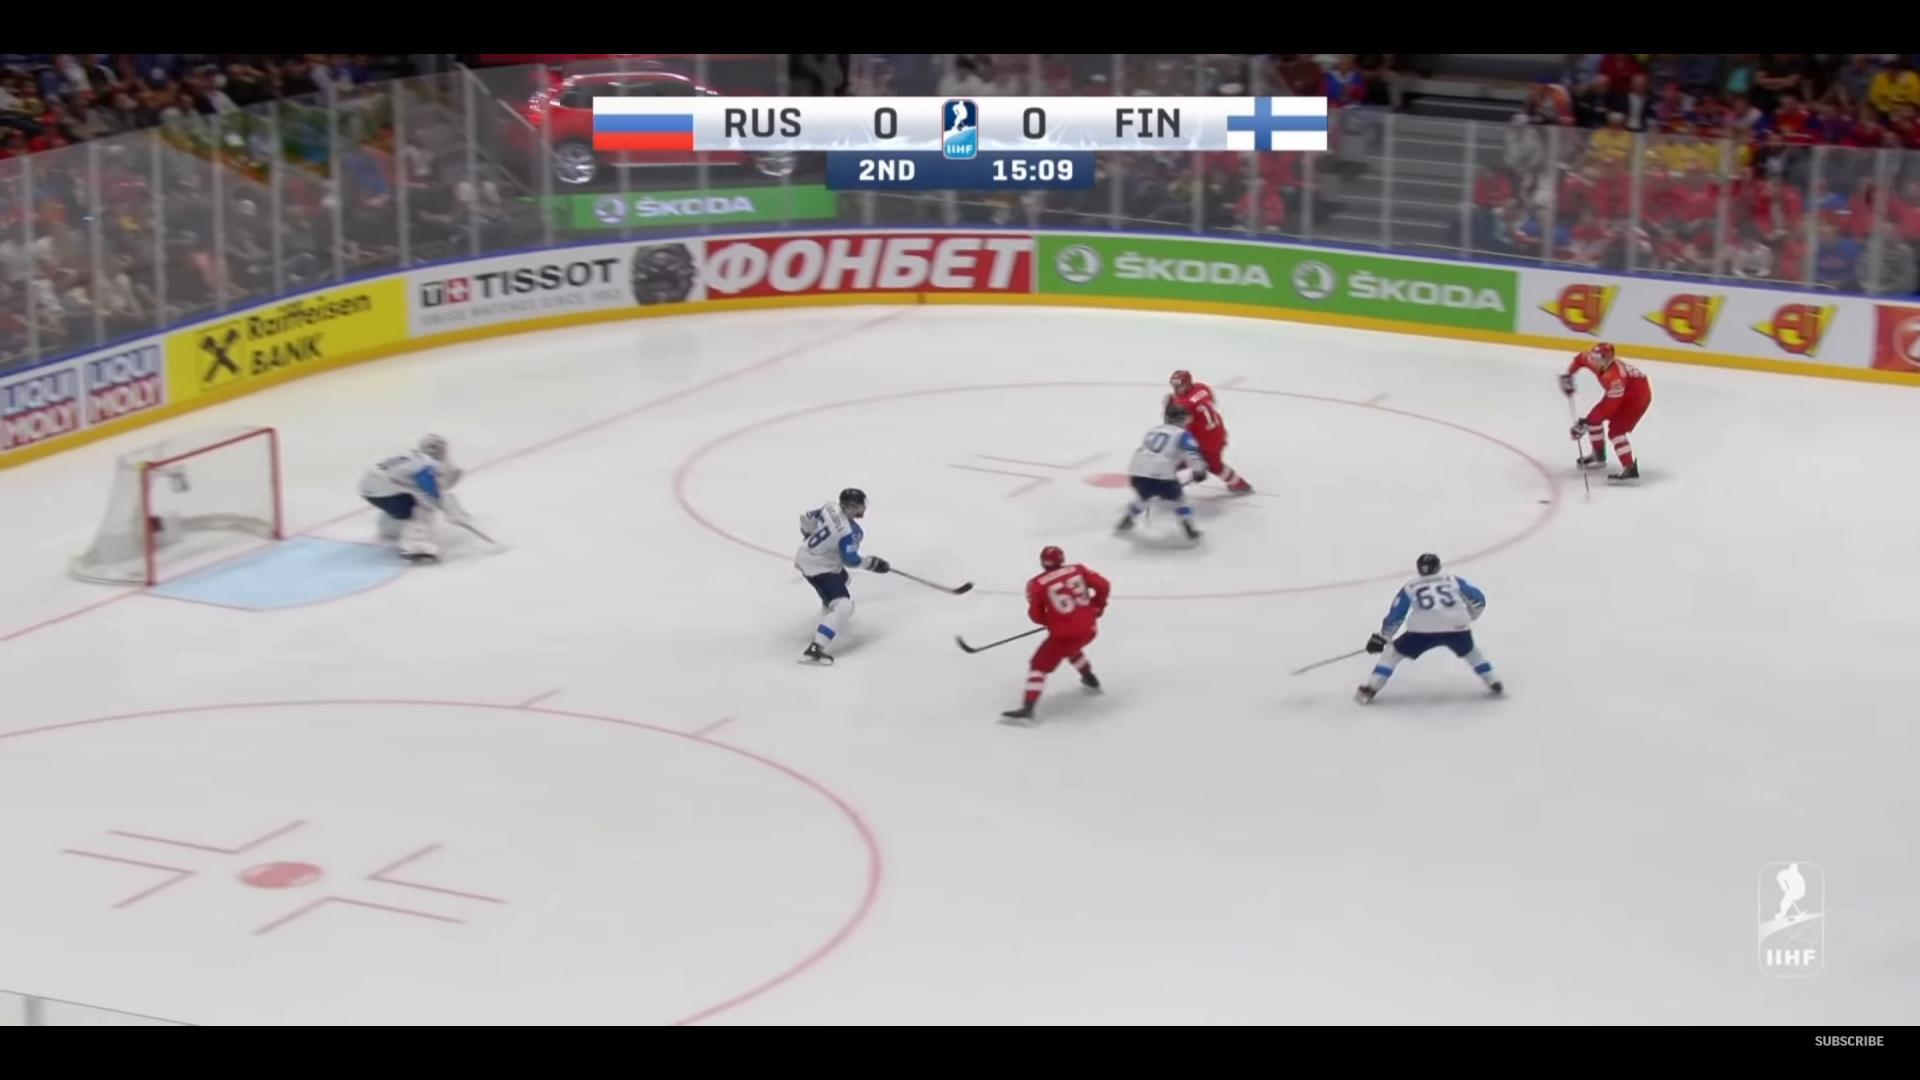puck: (1539, 500, 1548, 502)
